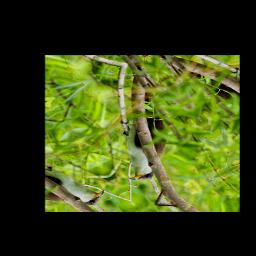Cuckoo: (73, 80, 214, 188)
